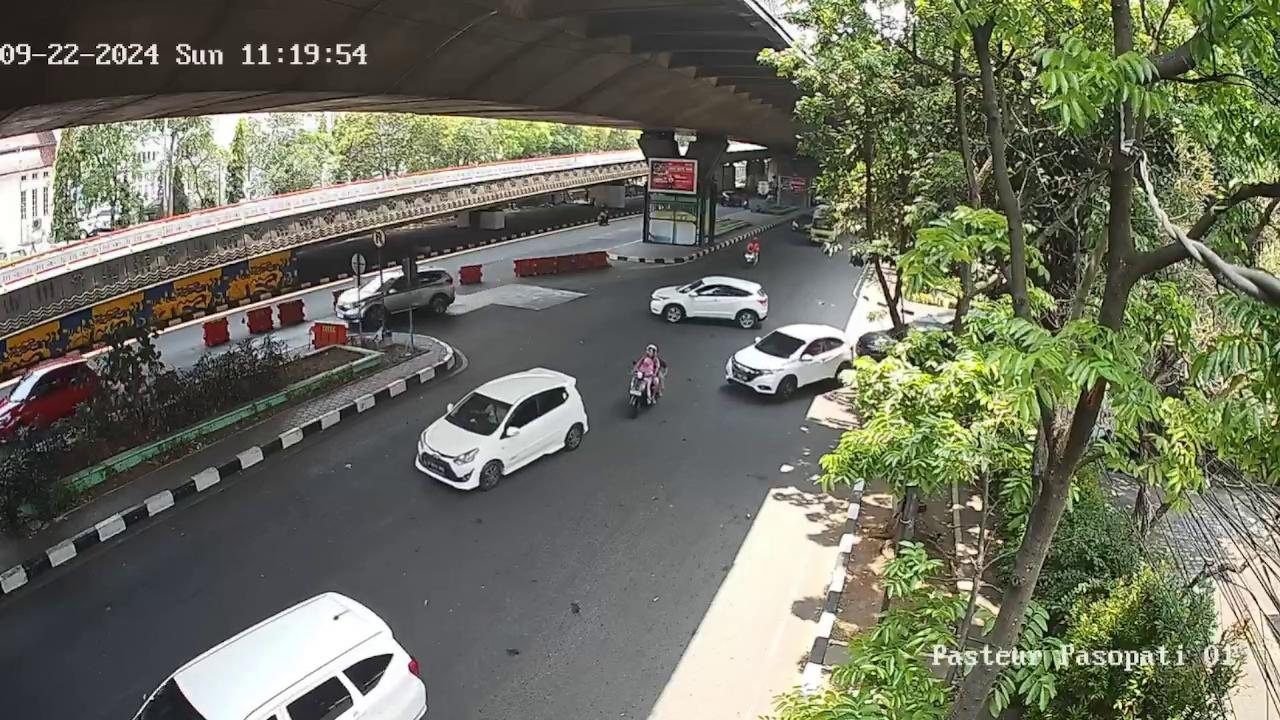pakai: (480, 403, 504, 425)
windshield: (448, 393, 516, 438), (757, 330, 807, 361)
